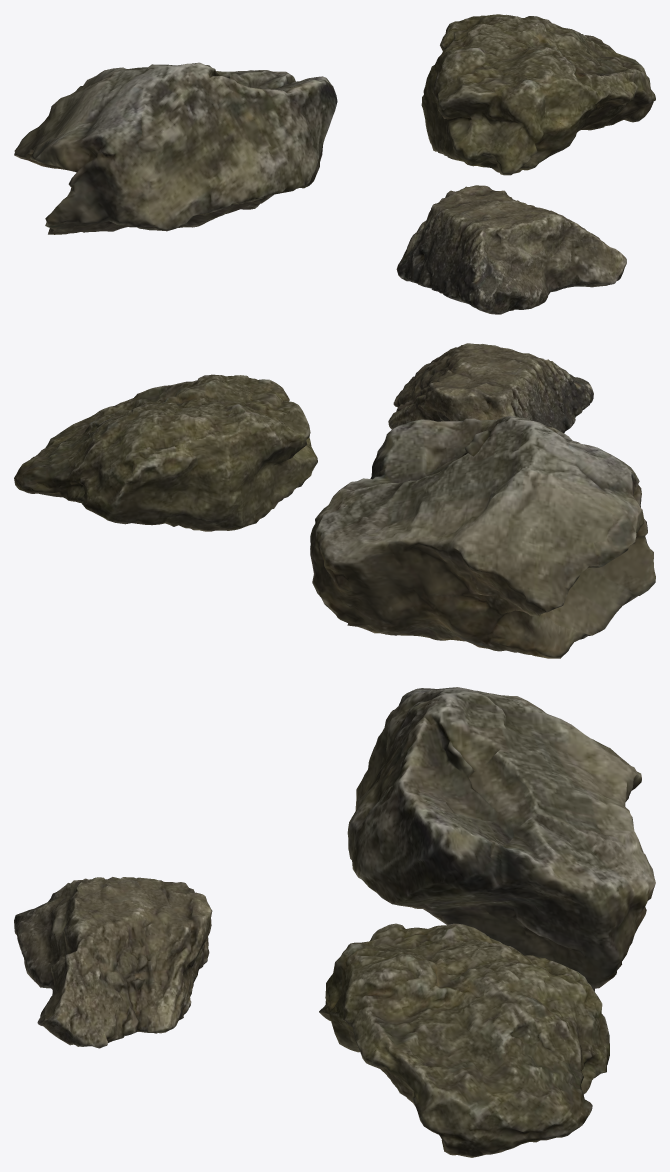
The model's file is rock_moss_set_02_1k.gltf.
3 views of the same model, one above another, from view 1: azimuth 30°, elevation 25°; view 2: azimuth 150°, elevation 25°; view 3: azimuth 270°, elevation 25° (orthographic). The views are drawn at different scales.
Visible parts, largest first — view 1: rock_moss_set_02_rock11, rock_moss_set_02_rock12, rock_moss_set_02_rock08; view 2: rock_moss_set_02_rock11, rock_moss_set_02_rock12, rock_moss_set_02_rock08; view 3: rock_moss_set_02_rock11, rock_moss_set_02_rock12, rock_moss_set_02_rock08.
Part boxes in pixels (left/top/right/bottom): rock_moss_set_02_rock11: left=14, top=62, right=337, bottom=234; rock_moss_set_02_rock12: left=421, top=14, right=655, bottom=175; rock_moss_set_02_rock08: left=396, top=185, right=626, bottom=314; rock_moss_set_02_rock11: left=310, top=415, right=655, bottom=658; rock_moss_set_02_rock12: left=14, top=374, right=317, bottom=531; rock_moss_set_02_rock08: left=388, top=343, right=593, bottom=432; rock_moss_set_02_rock11: left=347, top=687, right=655, bottom=991; rock_moss_set_02_rock12: left=319, top=923, right=609, bottom=1157; rock_moss_set_02_rock08: left=14, top=877, right=212, bottom=1048.
Size of the model in its own units: 4.09 by 1.31 by 3.18.
1 material, 1 textured.
